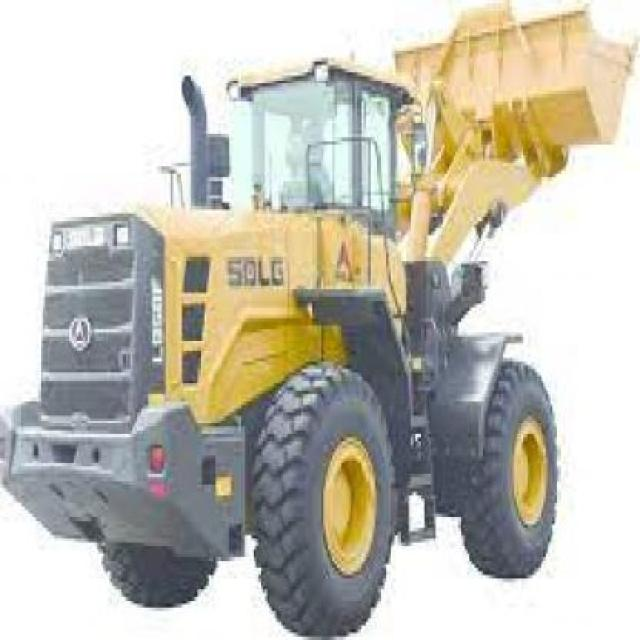buldozerpayloadergrader: (0, 40, 562, 637)
